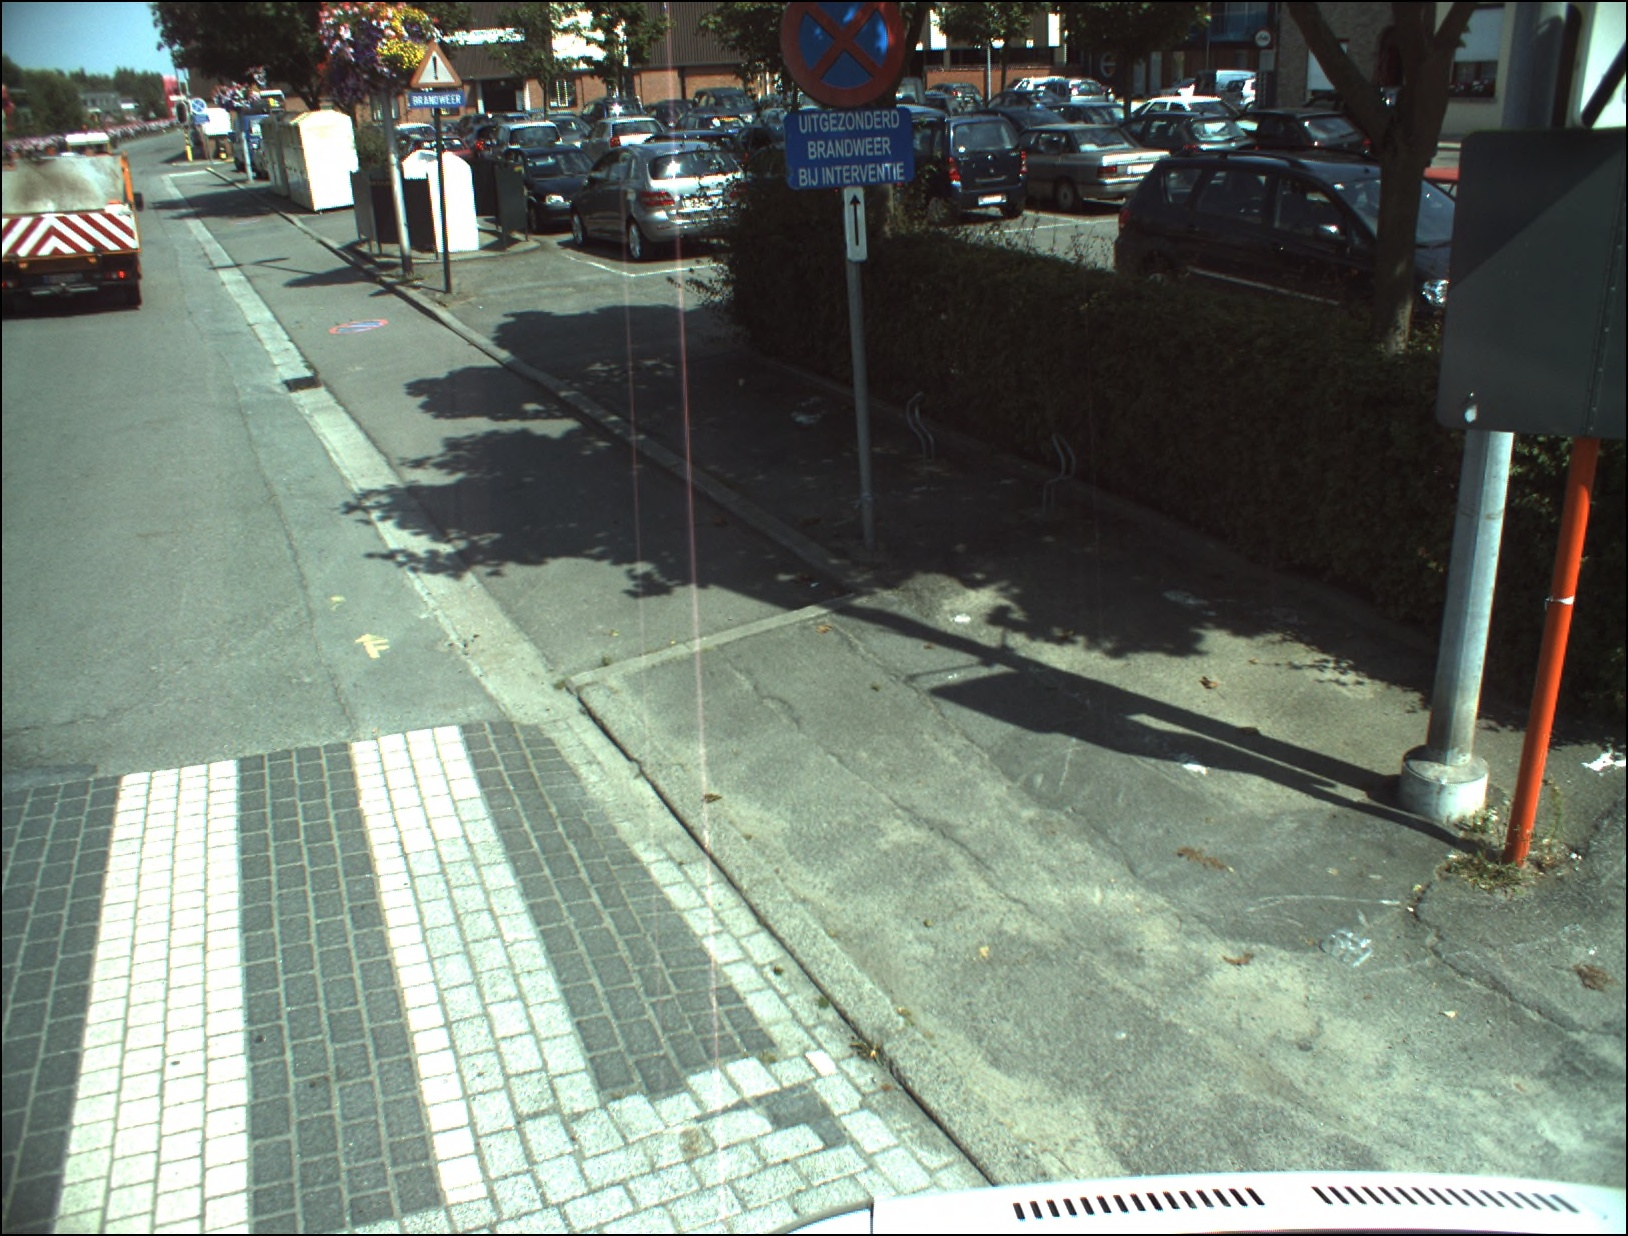danger: (410, 44, 460, 88)
no_stopping_&_parking: (782, 3, 898, 108)
